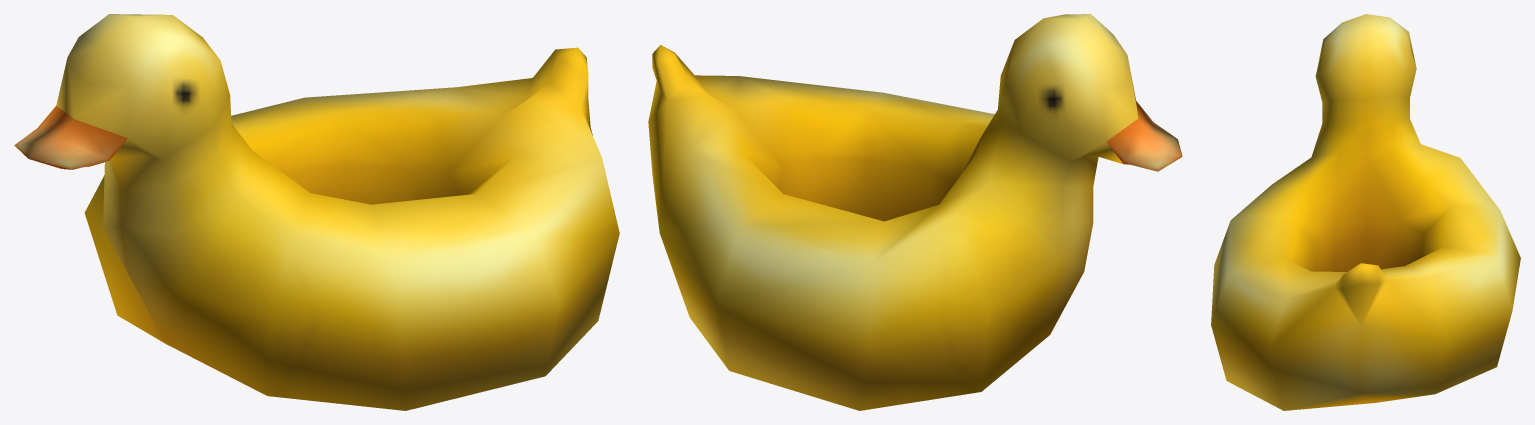
Rendered from Ceshichangji_XiaoYaZi_01.FBX.
3 renders of one model, left to right at view 1: azimuth 30°, elevation 25°; view 2: azimuth 150°, elevation 25°; view 3: azimuth 270°, elevation 25°, orthographic. The views are drawn at different scales.
Visible parts, largest first — view 1: Object009; view 2: Object009; view 3: Object009.
Part boxes in pixels (left/top/right/bottom): Object009: left=14, top=14, right=619, bottom=410; Object009: left=648, top=14, right=1182, bottom=410; Object009: left=1211, top=14, right=1520, bottom=410.
Bounding box in the file's own units: 316 × 212 × 214.
